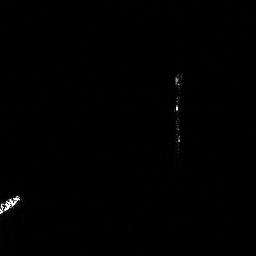ship: (1, 191, 24, 217)
